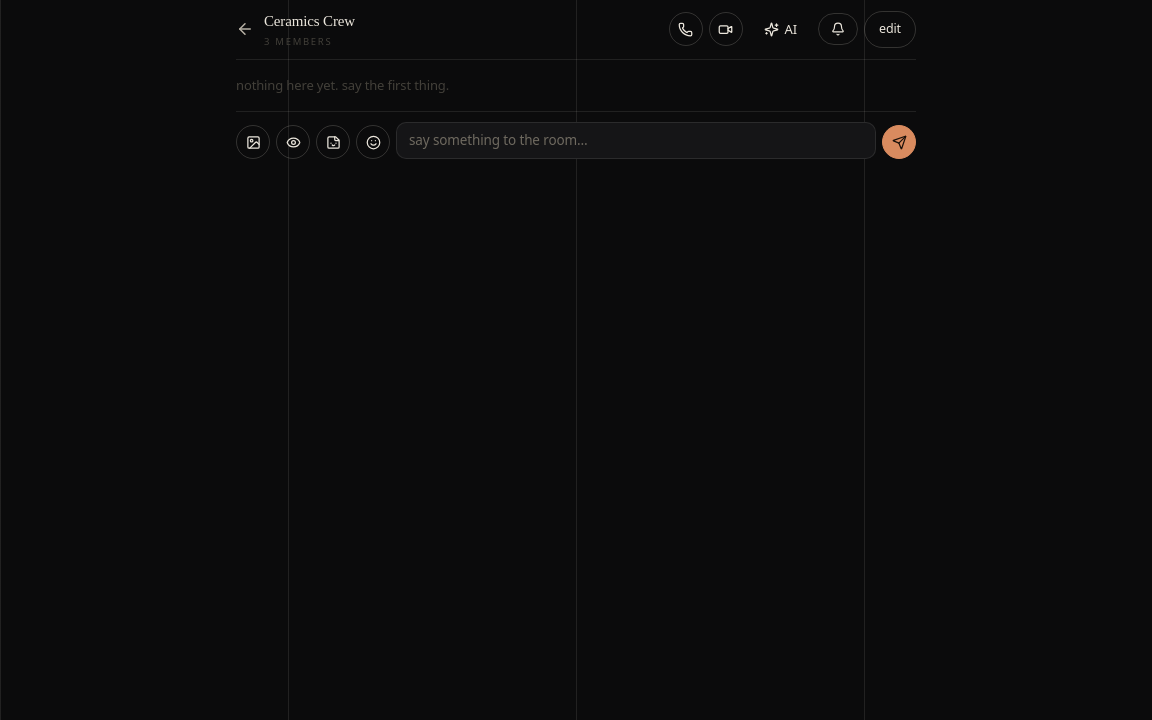
Scenario: room description modal › shows the full, unclamped description in the modal
Click the button "Ceramics Crew 3 members" at {"x": 309, "y": 21}, box [264,10,659,49]
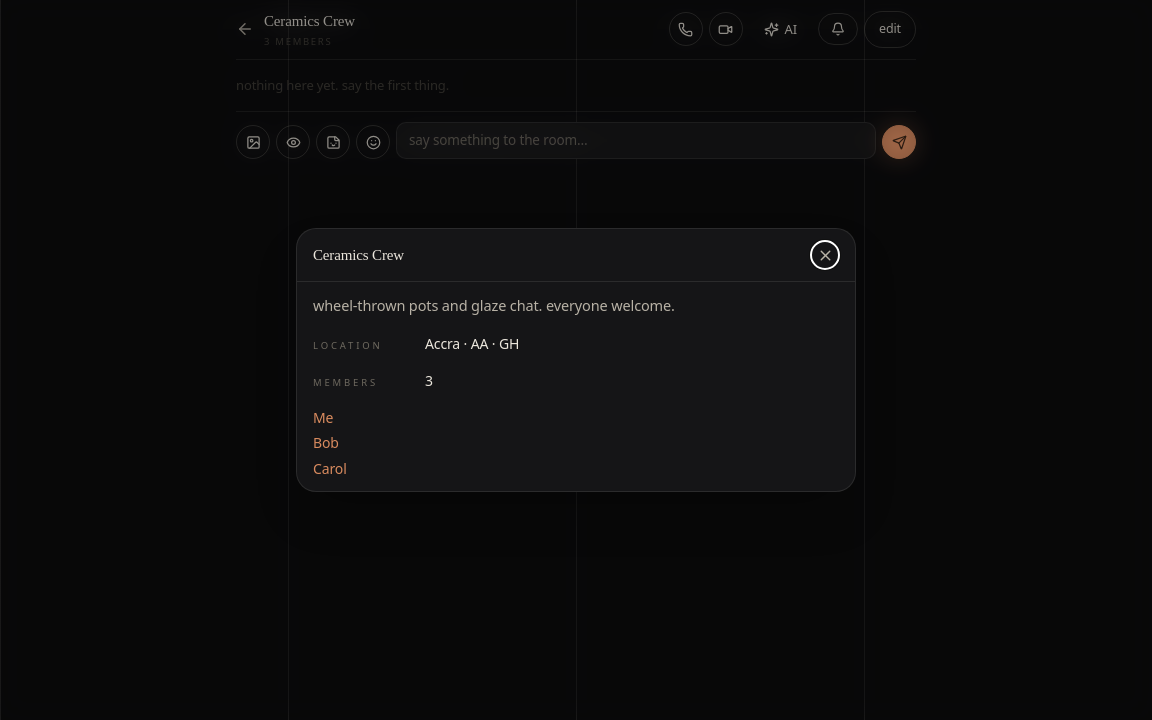
Check: the text "wheel-thrown pots and glaze chat. everyone welcome." is shown, box [313,295,675,315]
